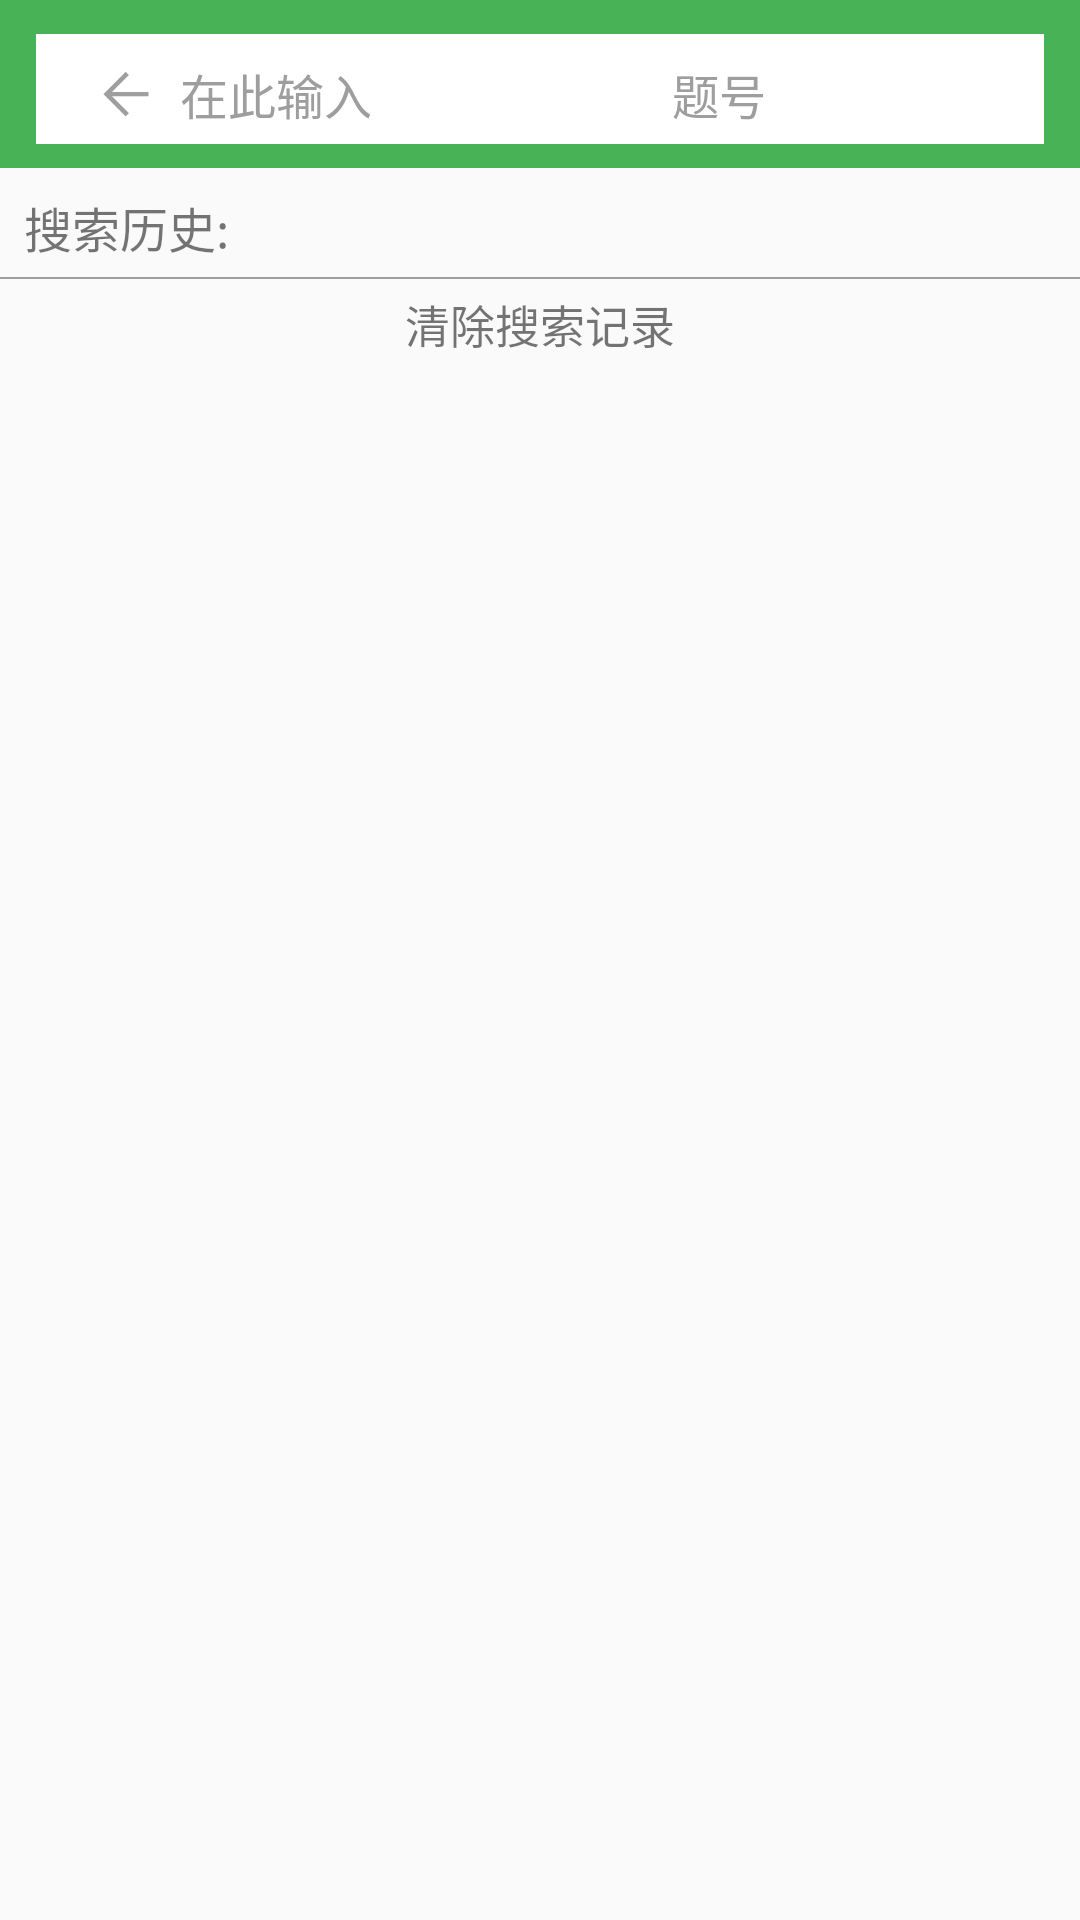

Locate icon controls on the screen. Image size 1080 × 1920, boxes as bbox=[x1, y1, x2, y2].
search back: bbox=[103, 72, 149, 116]
